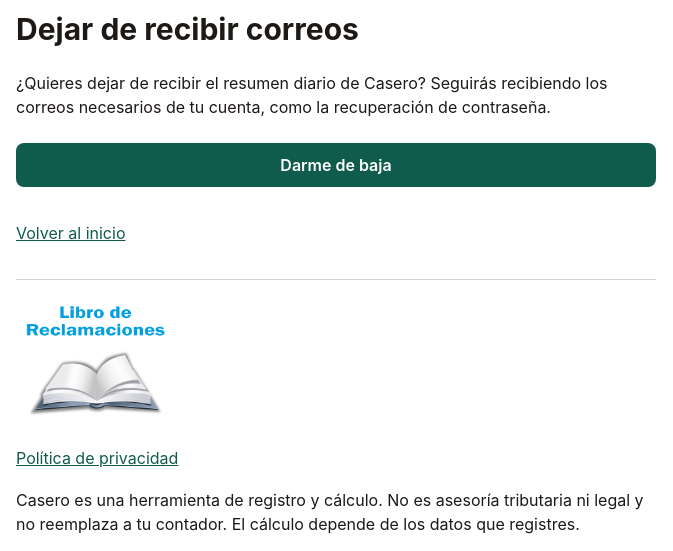
unsubscribe page › explains a broken or forged link
Click the button "Darme de baja": point(336, 165) [16,143,656,187]
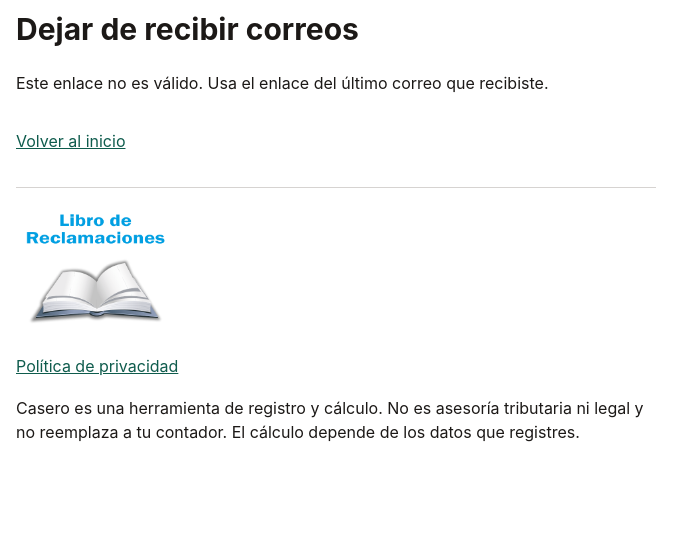
Check: the message shows "no es válido", box [16,73,548,93]
